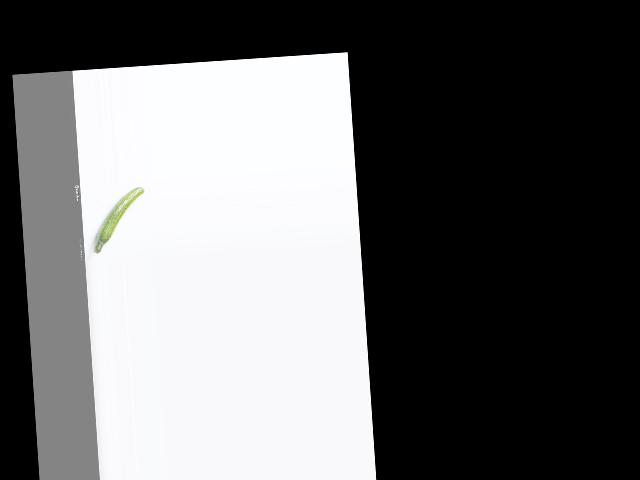cucumber: (89, 187, 148, 254)
